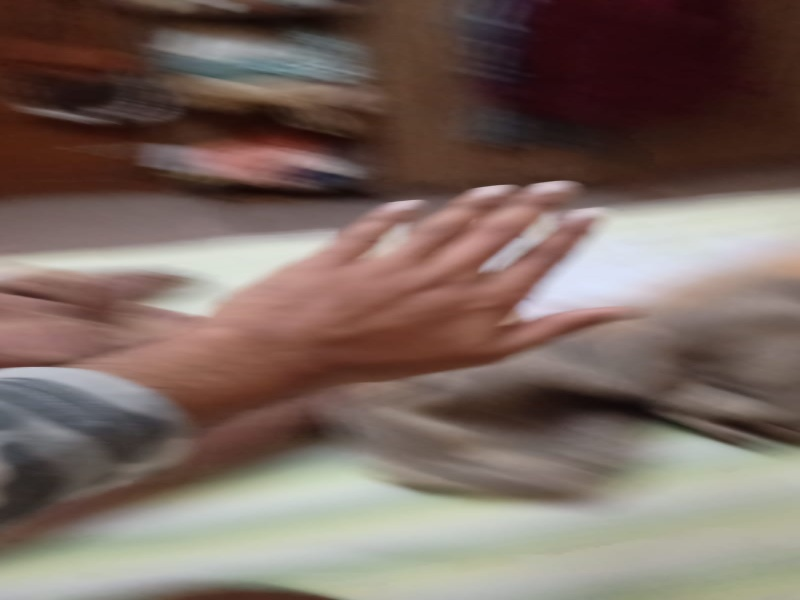Hand: (211, 164, 660, 397)
